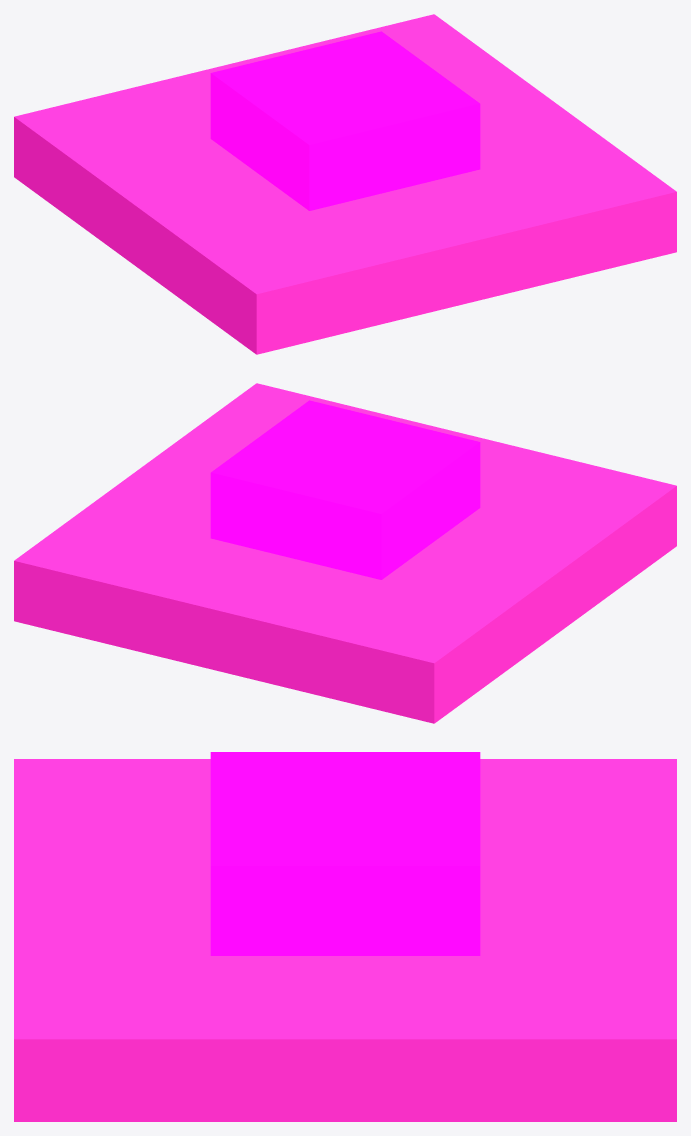
The model's file is turret_explosiva.glb.
3 renders of one model, top to bottom at view 1: azimuth 30°, elevation 25°; view 2: azimuth 150°, elevation 25°; view 3: azimuth 270°, elevation 25°, orthographic. The views are drawn at different scales.
Visible parts, largest first — view 1: Base, Weapon; view 2: Base, Weapon; view 3: Base, Weapon.
Boxes of the visible parts, x1,y1,x2,y2 form: Base: (14, 14, 676, 354); Weapon: (210, 31, 480, 210); Base: (14, 383, 676, 723); Weapon: (210, 400, 480, 579); Base: (14, 759, 676, 1121); Weapon: (210, 752, 480, 955).
Bounding box in the file's own units: 1.6 × 0.46 × 1.6.
